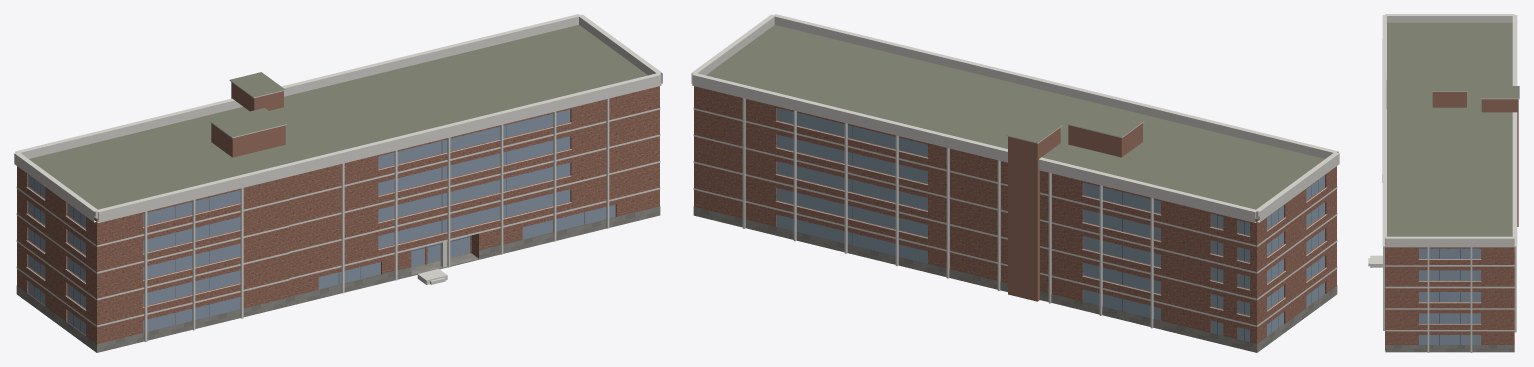
3 renders of one model, left to right at view 1: azimuth 30°, elevation 25°; view 2: azimuth 150°, elevation 25°; view 3: azimuth 270°, elevation 25°, orthographic. The views are drawn at different scales.
Parts seen in each view (by area): view 1: edu9__wall, edu9__roof, edu9__trim, edu9__glass, edu9__base, edu9__wall2, edu9__frame; view 2: edu9__wall, edu9__roof, edu9__trim, edu9__glass, edu9__wall2, edu9__base, edu9__frame; view 3: edu9__roof, edu9__wall, edu9__trim, edu9__glass, edu9__wall2, edu9__base, edu9__entranceStair.
Boxes of the visible parts, left/top/right/bottom form: edu9__wall: left=17, top=86, right=659, bottom=352; edu9__roof: left=29, top=25, right=658, bottom=305; edu9__trim: left=14, top=14, right=662, bottom=342; edu9__glass: left=28, top=109, right=615, bottom=335; edu9__base: left=16, top=206, right=660, bottom=352; edu9__wall2: left=211, top=82, right=285, bottom=157; edu9__frame: left=34, top=125, right=584, bottom=331; edu9__wall: left=694, top=86, right=1336, bottom=352; edu9__roof: left=706, top=25, right=1324, bottom=219; edu9__trim: left=691, top=14, right=1339, bottom=328; edu9__glass: left=777, top=108, right=1324, bottom=342; edu9__wall2: left=1008, top=123, right=1142, bottom=301; edu9__base: left=693, top=206, right=1337, bottom=352; edu9__frame: left=852, top=126, right=1318, bottom=340; edu9__roof: left=1385, top=22, right=1519, bottom=242; edu9__wall: left=1385, top=243, right=1514, bottom=349; edu9__trim: left=1382, top=14, right=1519, bottom=352; edu9__glass: left=1419, top=248, right=1480, bottom=344; edu9__wall2: left=1432, top=92, right=1518, bottom=226; edu9__base: left=1385, top=345, right=1514, bottom=352; edu9__entranceStair: left=1368, top=255, right=1382, bottom=267.
Bounding box in the file's own units: 80.25 × 22.03 × 22.88.
Materials: 10 (2 with a texture image).
